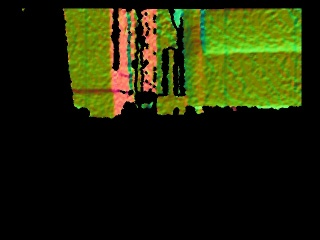station: (154, 48, 187, 116)
